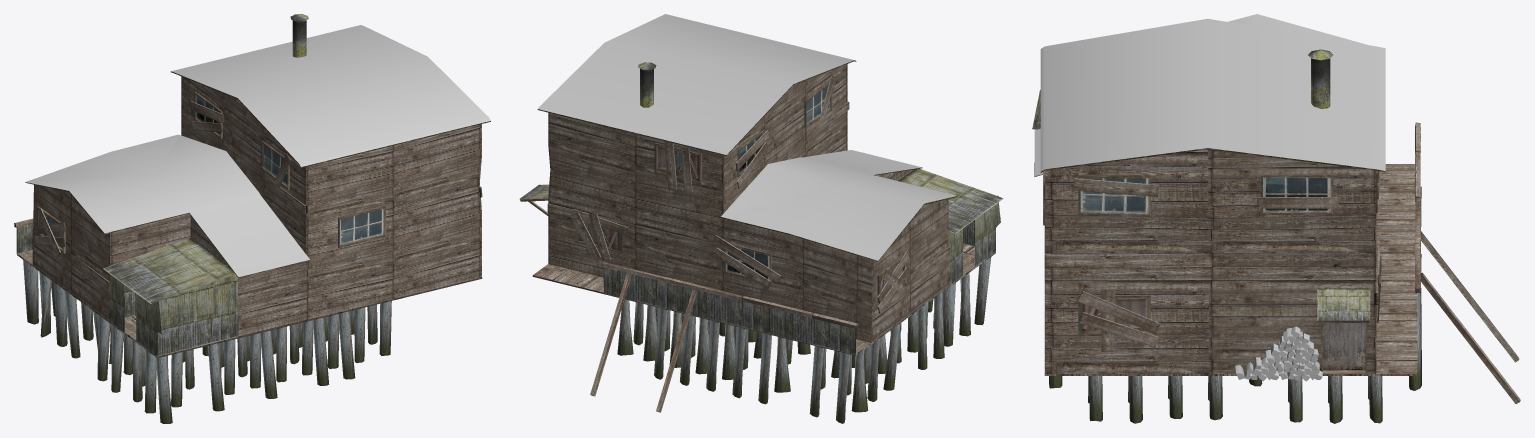
The model's file is HouseExterior.FBX.
3 views of the same model, side by side, from view 1: azimuth 30°, elevation 25°; view 2: azimuth 150°, elevation 25°; view 3: azimuth 270°, elevation 25° (orthographic). The views are drawn at different scales.
Visible parts, largest first — view 1: Box001, Box002, Cylinder009, Cylinder006, Cylinder002, Cylinder092, Cylinder008, Cylinder004, Cylinder042, Cylinder032, Cylinder012, Cylinder062 (+13 smaller); view 2: Box001, Object022, Box002, Object027, Object028, Cylinder082, Cylinder097, Cylinder092, Cylinder002, Cylinder095, Cylinder093, Cylinder022 (+19 smaller); view 3: Box001, Box002, TechoEntrada, Object027, Object014, Object005, Object028, Object003, Object008, Cylinder001, Cylinder031, Cylinder081 (+7 smaller).
Boxes of the visible parts, <box> form: Box001: <box>25,25,490,356</box>; Box002: <box>17,250,482,357</box>; Cylinder009: <box>338,311,355,379</box>; Cylinder006: <box>260,330,277,398</box>; Cylinder002: <box>156,356,172,423</box>; Cylinder092: <box>23,260,38,324</box>; Cylinder008: <box>312,317,329,385</box>; Cylinder004: <box>208,343,224,411</box>; Cylinder042: <box>97,315,110,381</box>; Cylinder032: <box>111,325,123,392</box>; Cylinder012: <box>144,350,156,413</box>; Cylinder062: <box>64,290,80,358</box>; Box001: <box>537,14,1003,342</box>; Object022: <box>603,267,855,354</box>; Box002: <box>532,244,995,355</box>; Object027: <box>590,272,631,396</box>; Object028: <box>656,289,697,412</box>; Cylinder082: <box>851,349,868,412</box>; Cylinder097: <box>706,320,719,391</box>; Cylinder092: <box>836,352,850,423</box>; Cylinder002: <box>974,257,991,325</box>; Cylinder095: <box>758,333,771,404</box>; Cylinder093: <box>809,346,823,417</box>; Cylinder022: <box>942,283,955,346</box>; Box001: <box>1032,14,1385,373</box>; Box002: <box>1044,164,1417,375</box>; TechoEntrada: <box>1317,288,1370,320</box>; Object027: <box>1421,272,1520,403</box>; Object014: <box>1073,178,1158,197</box>; Object005: <box>1077,291,1160,333</box>; Object028: <box>1420,231,1519,362</box>; Object003: <box>1078,312,1159,347</box>; Object008: <box>1257,197,1338,208</box>; Cylinder001: <box>1311,58,1330,108</box>; Cylinder031: <box>1129,376,1142,423</box>; Cylinder081: <box>1329,376,1342,423</box>.
Bounding box in the file's own units: 530 × 386 × 464.
